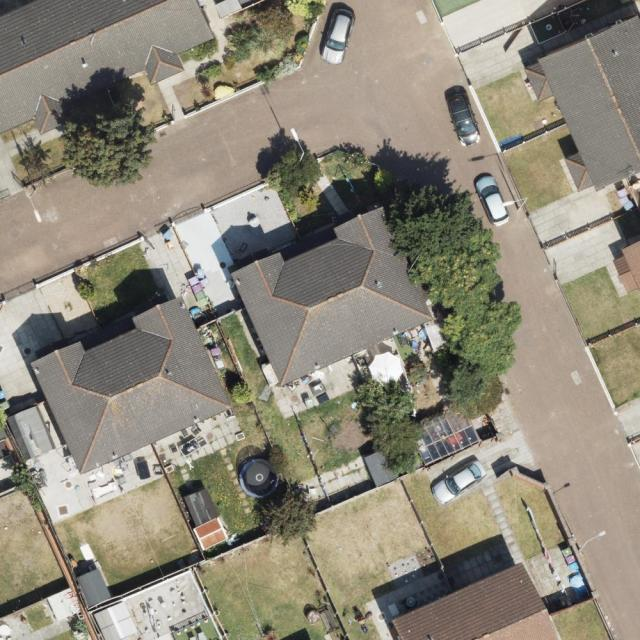roof: (229, 203, 438, 388), (29, 296, 232, 476), (0, 0, 215, 138), (524, 14, 640, 200), (391, 561, 560, 639), (613, 237, 640, 293)
